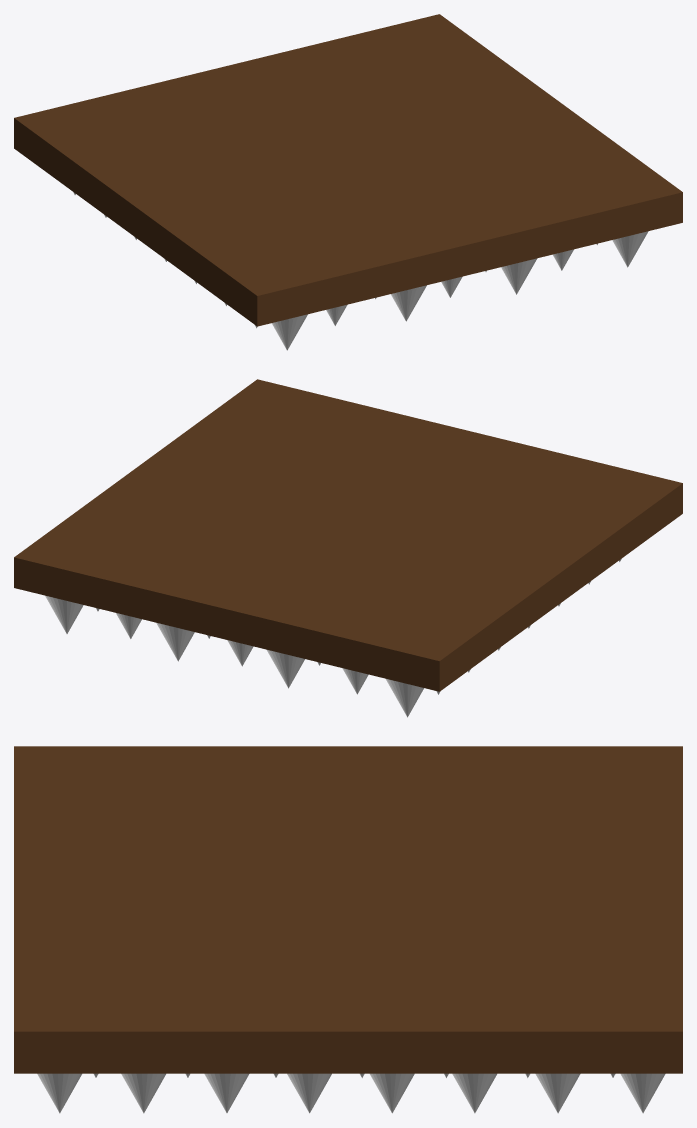
The model's file is Spikes Trap.fbx.
The picture shows the model from 3 angles, top to bottom: view 1: azimuth 30°, elevation 25°; view 2: azimuth 150°, elevation 25°; view 3: azimuth 270°, elevation 25°; orthographic projection. The views are drawn at different scales.
Parts seen in each view (by area): view 1: Cube, Cube.001, Spikes.001, Spikes; view 2: Cube, Cube.001, Spikes.001, Spikes; view 3: Cube, Cube.001, Spikes, Spikes.001.
Boxes of the visible parts, bbox=[...] form: Cube: bbox=[14, 14, 682, 326]; Cube.001: bbox=[14, 65, 682, 325]; Spikes.001: bbox=[73, 192, 626, 350]; Spikes: bbox=[75, 194, 648, 333]; Cube: bbox=[14, 442, 682, 691]; Cube.001: bbox=[14, 379, 682, 691]; Spikes.001: bbox=[45, 558, 621, 716]; Spikes: bbox=[48, 583, 588, 717]; Cube: bbox=[14, 746, 682, 1073]; Cube.001: bbox=[14, 746, 682, 1073]; Spikes: bbox=[37, 1073, 665, 1113]; Spikes.001: bbox=[63, 1073, 664, 1113].
Bounding box in the file's own units: 398 × 70.01 × 394.
